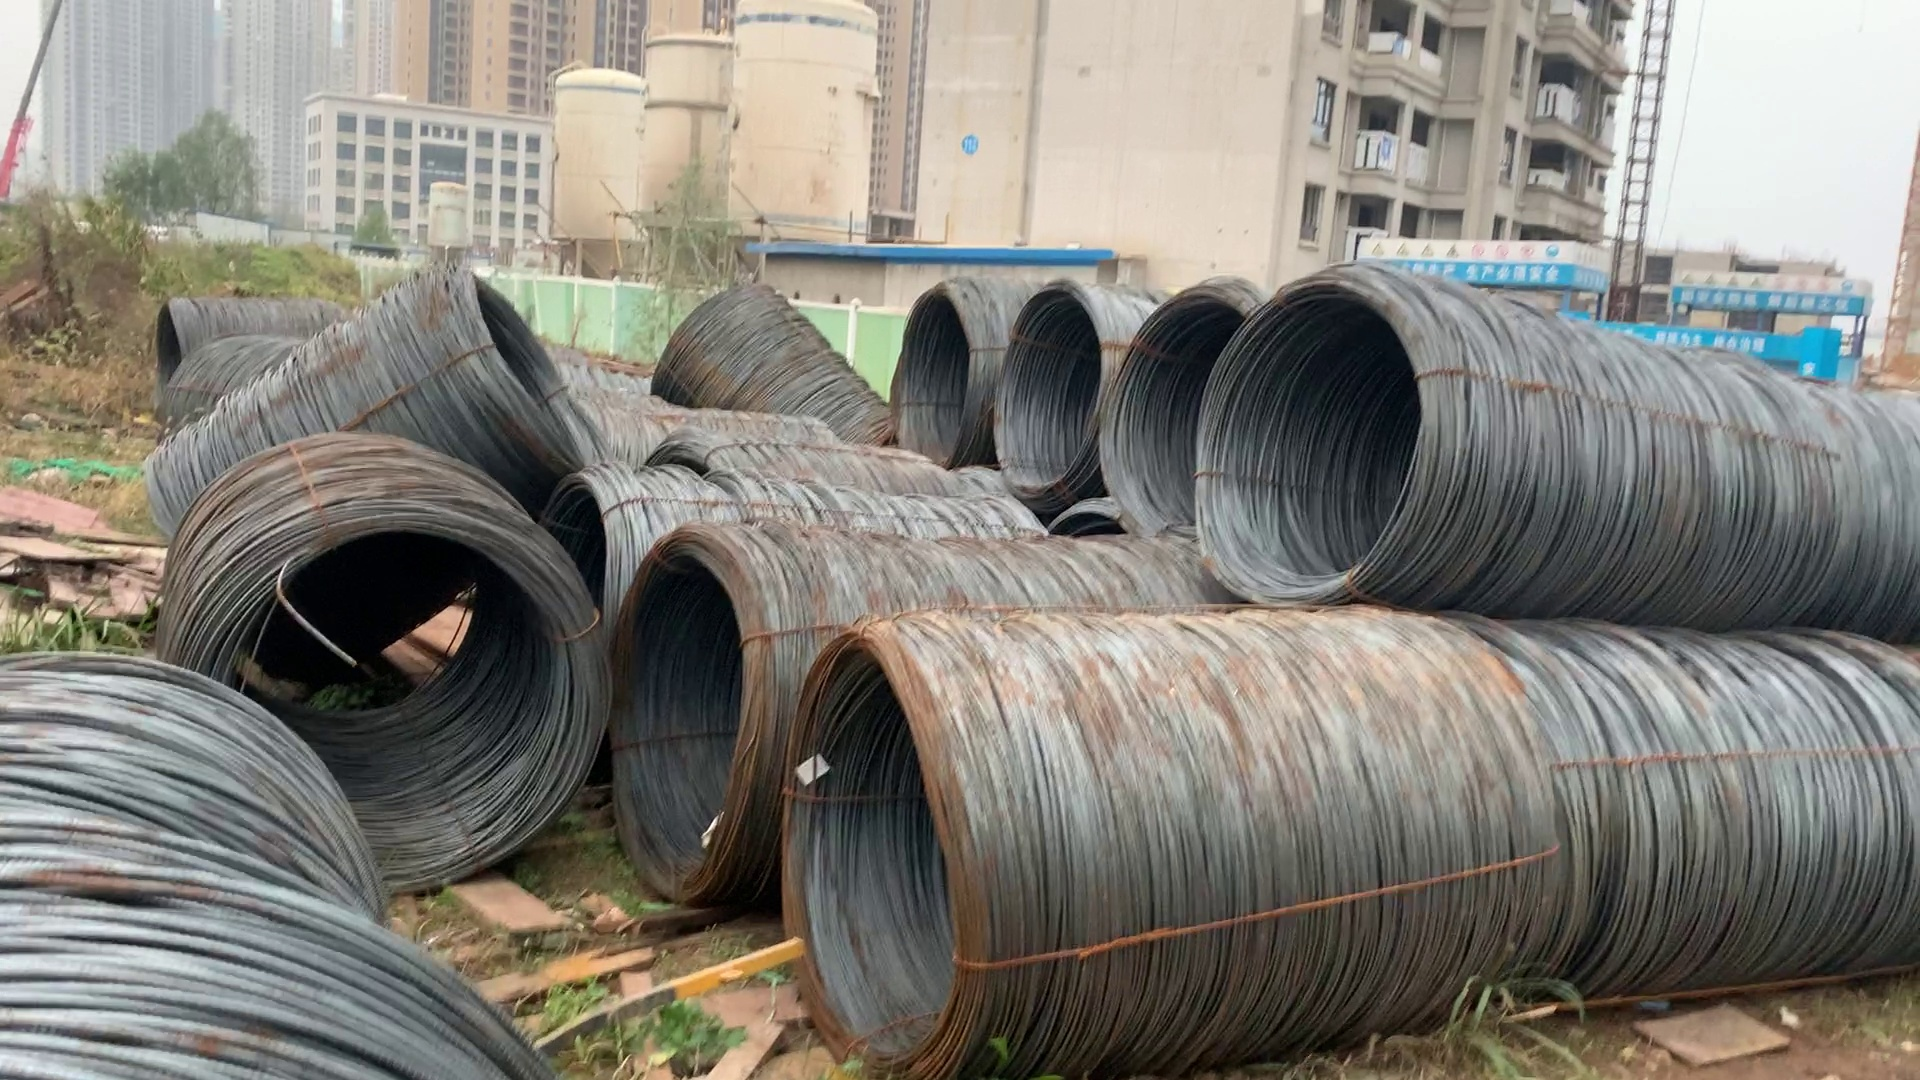coil: (185, 506, 599, 899), (774, 624, 1007, 1077), (1193, 280, 1440, 607), (1104, 274, 1257, 546), (440, 262, 615, 483), (996, 272, 1110, 504), (885, 274, 988, 473), (140, 295, 196, 425)
